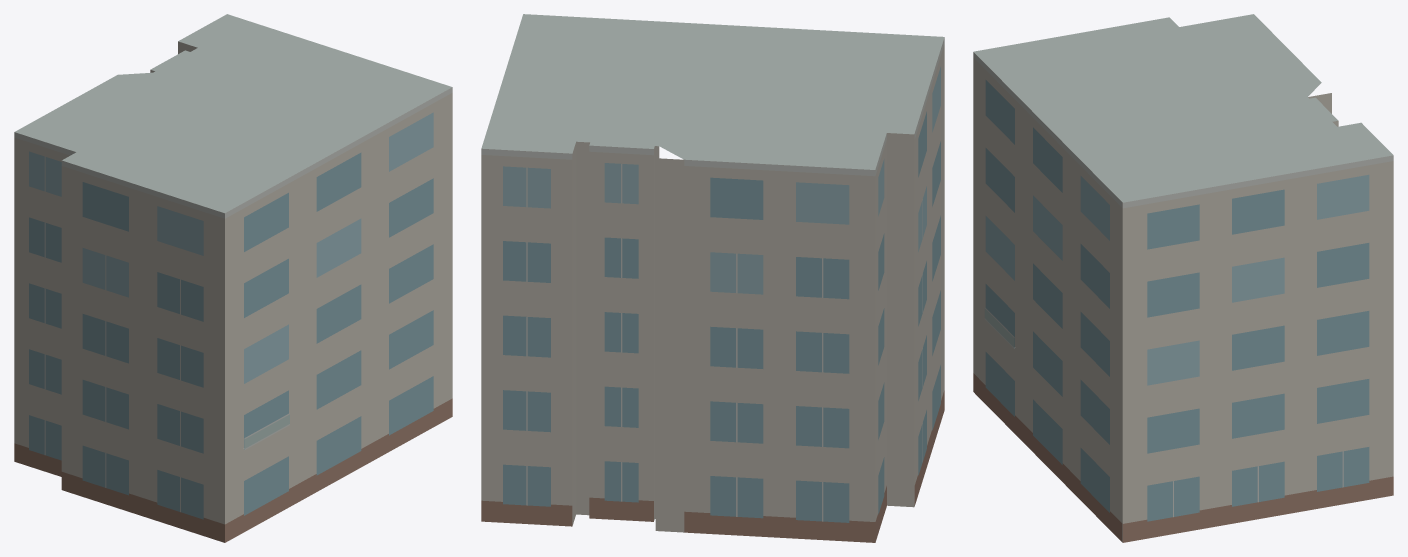
Rendered from survey-upis-32988656.glb.
3 views of the same model, side by side, from view 1: azimuth 30°, elevation 25°; view 2: azimuth 150°, elevation 25°; view 3: azimuth 270°, elevation 25° (orthographic). The views are drawn at different scales.
Visible parts, largest first — view 1: survey-upis-32988656.tmp; view 2: survey-upis-32988656.tmp; view 3: survey-upis-32988656.tmp.
Boxes of the visible parts, x1,y1,x2,y2 form: survey-upis-32988656.tmp: (14,14,452,542); survey-upis-32988656.tmp: (481,14,944,542); survey-upis-32988656.tmp: (973,14,1393,542).
Bounding box in the file's own units: 17.51 × 14.7 × 16.48.
